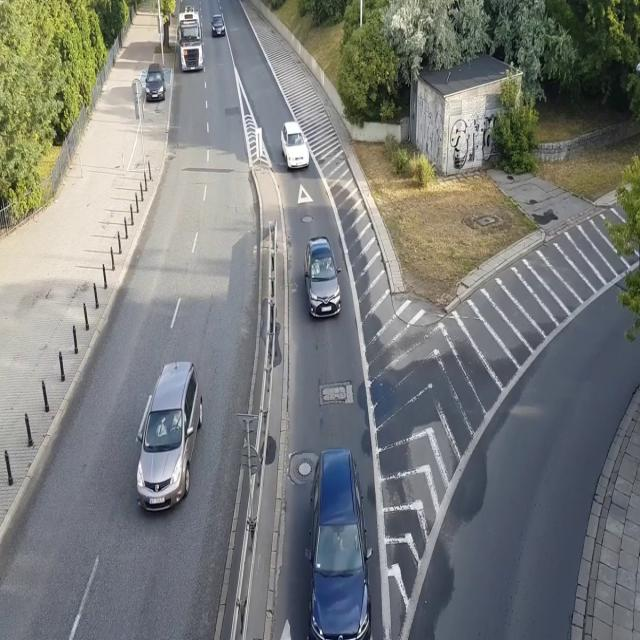car: (302, 447, 374, 640), (136, 359, 203, 514), (302, 236, 342, 323), (280, 118, 310, 174), (146, 63, 166, 102), (209, 12, 226, 38)
truck: (176, 5, 205, 74)
